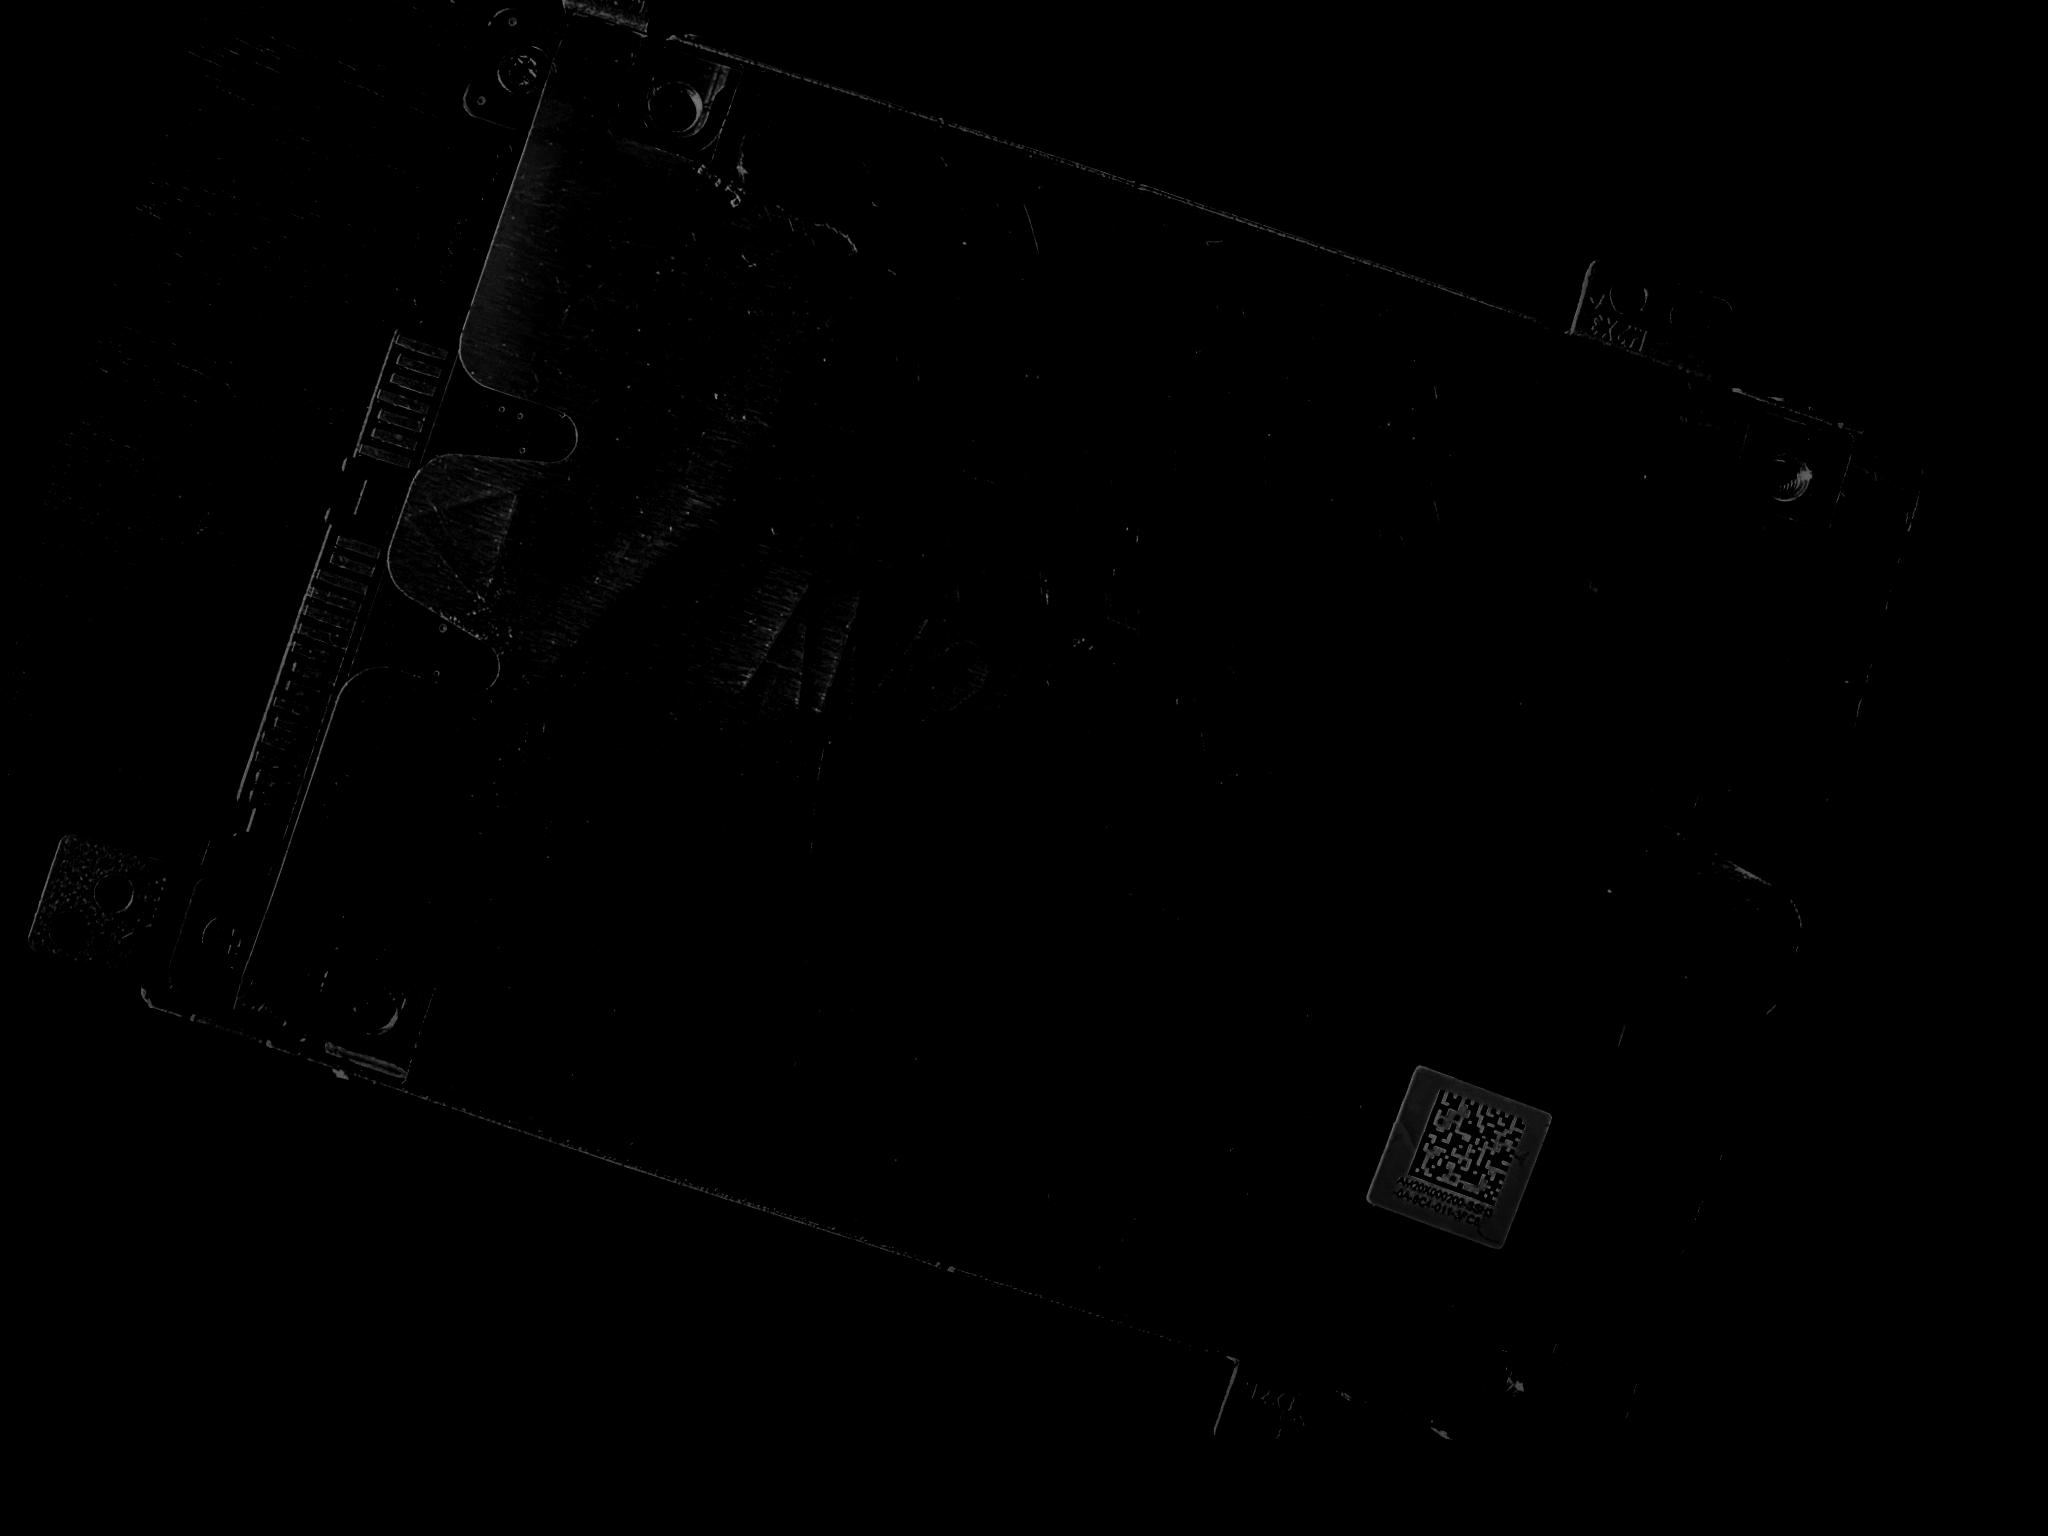screw: (190, 900, 269, 979), (485, 34, 558, 105)
